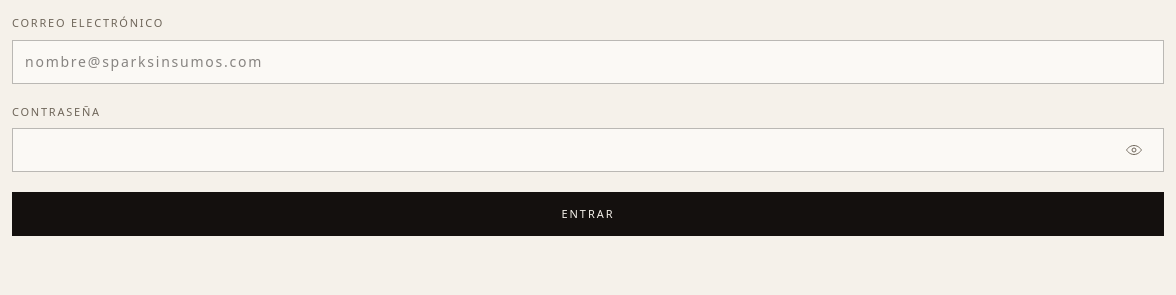
Test case: login form › shows invalid credentials and does not navigate
In the field labelled "Correo electrónico": (588, 62) x1=12 y1=40 x2=1164 y2=84, type "ana@sparks.com"
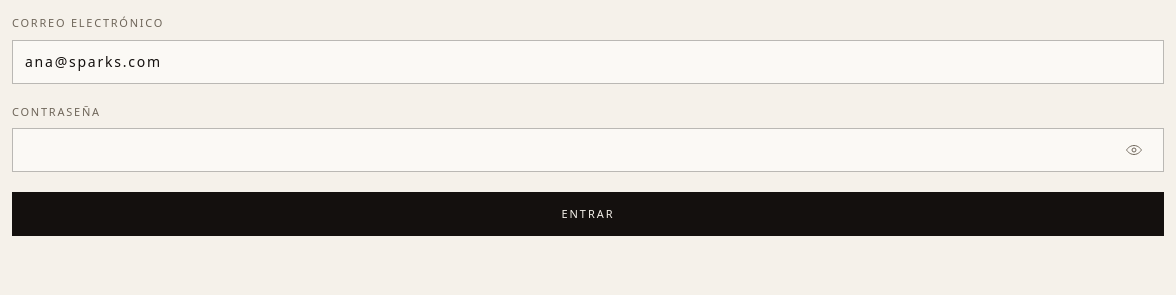
In the password field labelled "Contraseña": (588, 150) x1=12 y1=128 x2=1164 y2=172, type "nope"
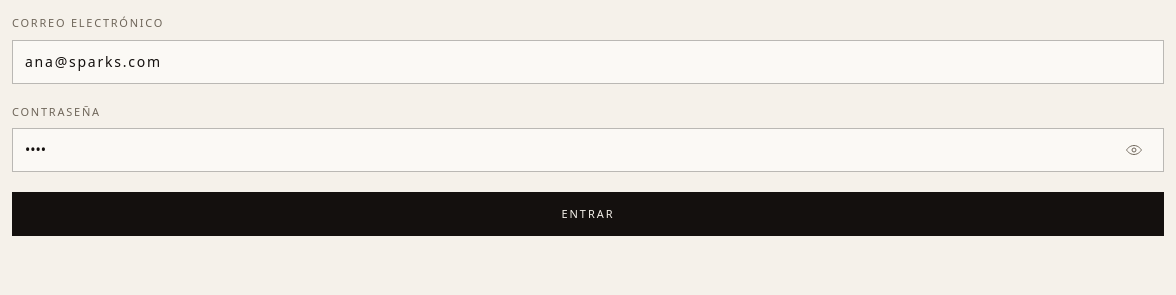
Click the button "Entrar": click(588, 214) x1=12 y1=192 x2=1164 y2=236
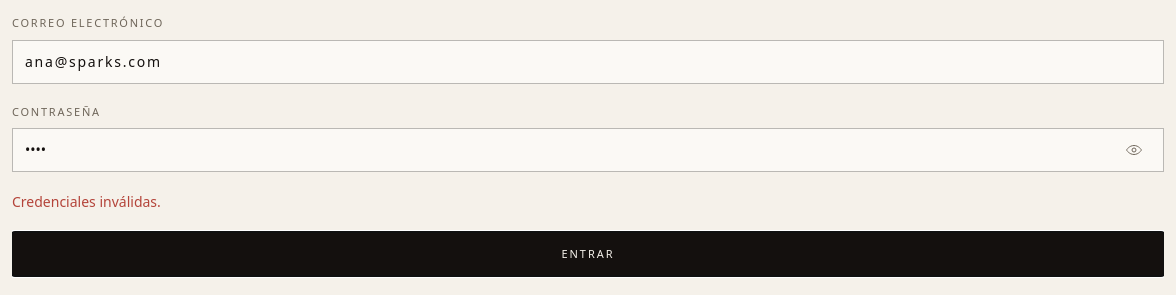
Check: the message reads "Credenciales inválidas.", box x1=12 y1=192 x2=161 y2=211
